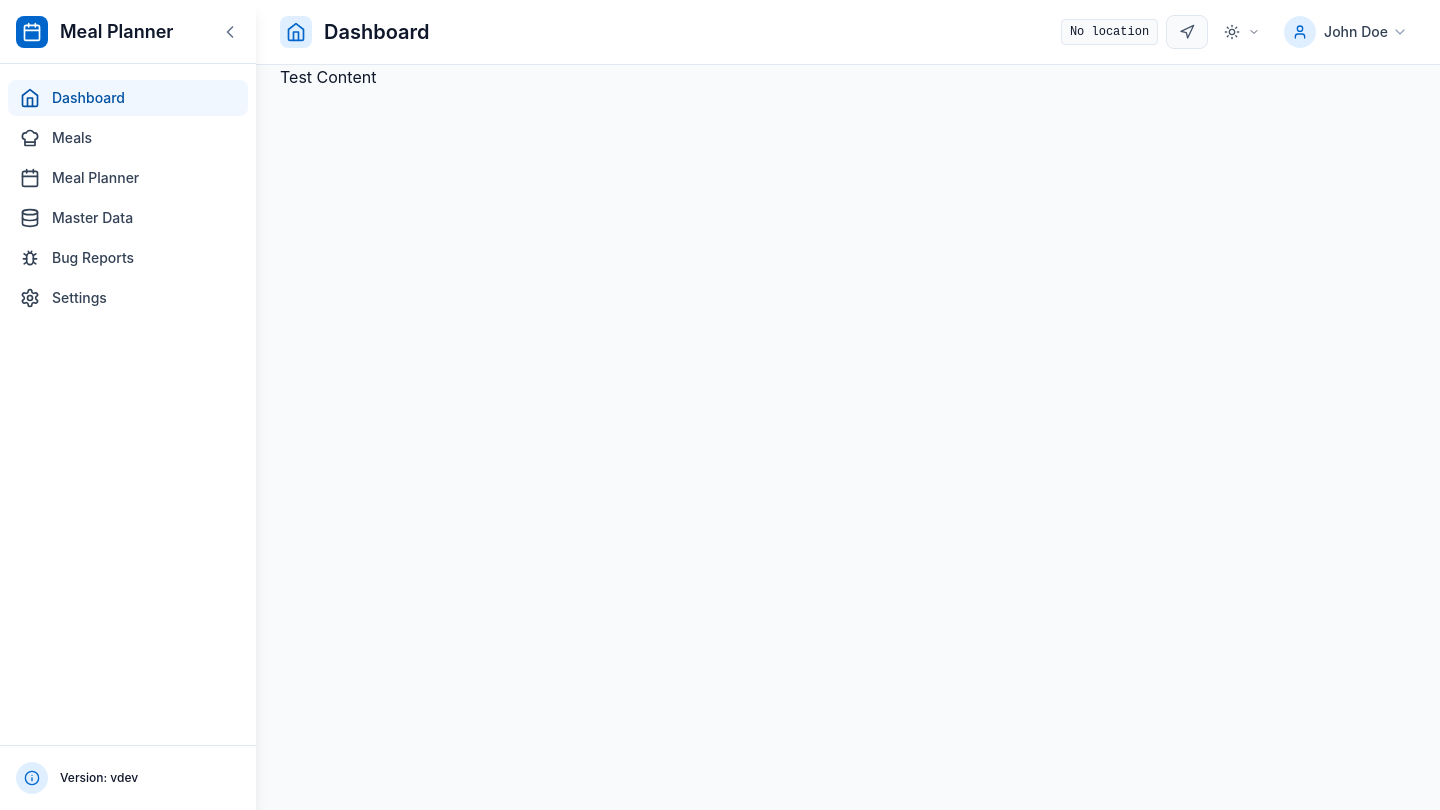
Test case: Layout Component › Sidebar Collapse Behavior › expands when expand button is clicked
First collapse
Click the button titled "Collapse sidebar": (230, 32) [220,22,240,42]
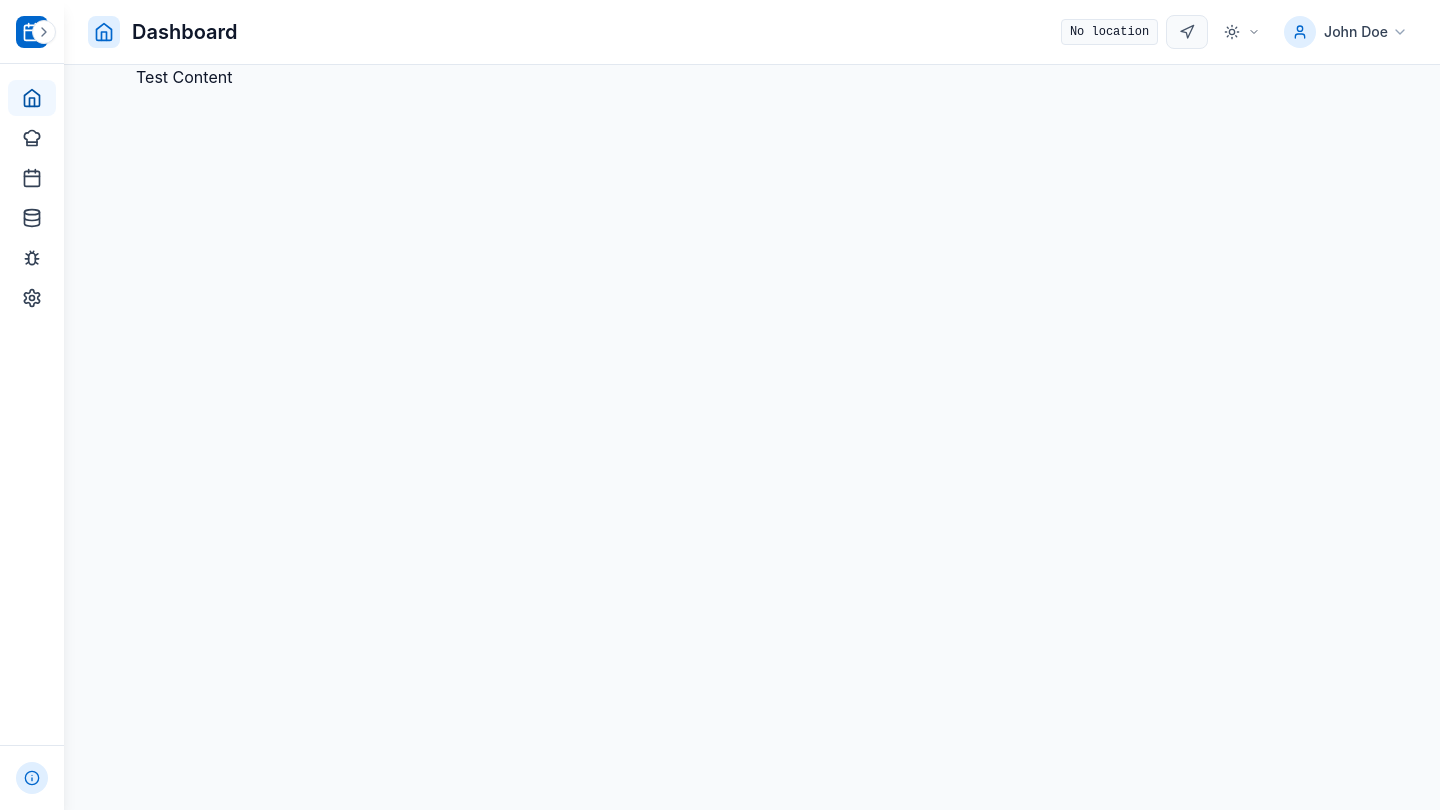
Wait for expand button and click it
Click the button titled "Expand sidebar": (44, 32) [32,20,56,44]
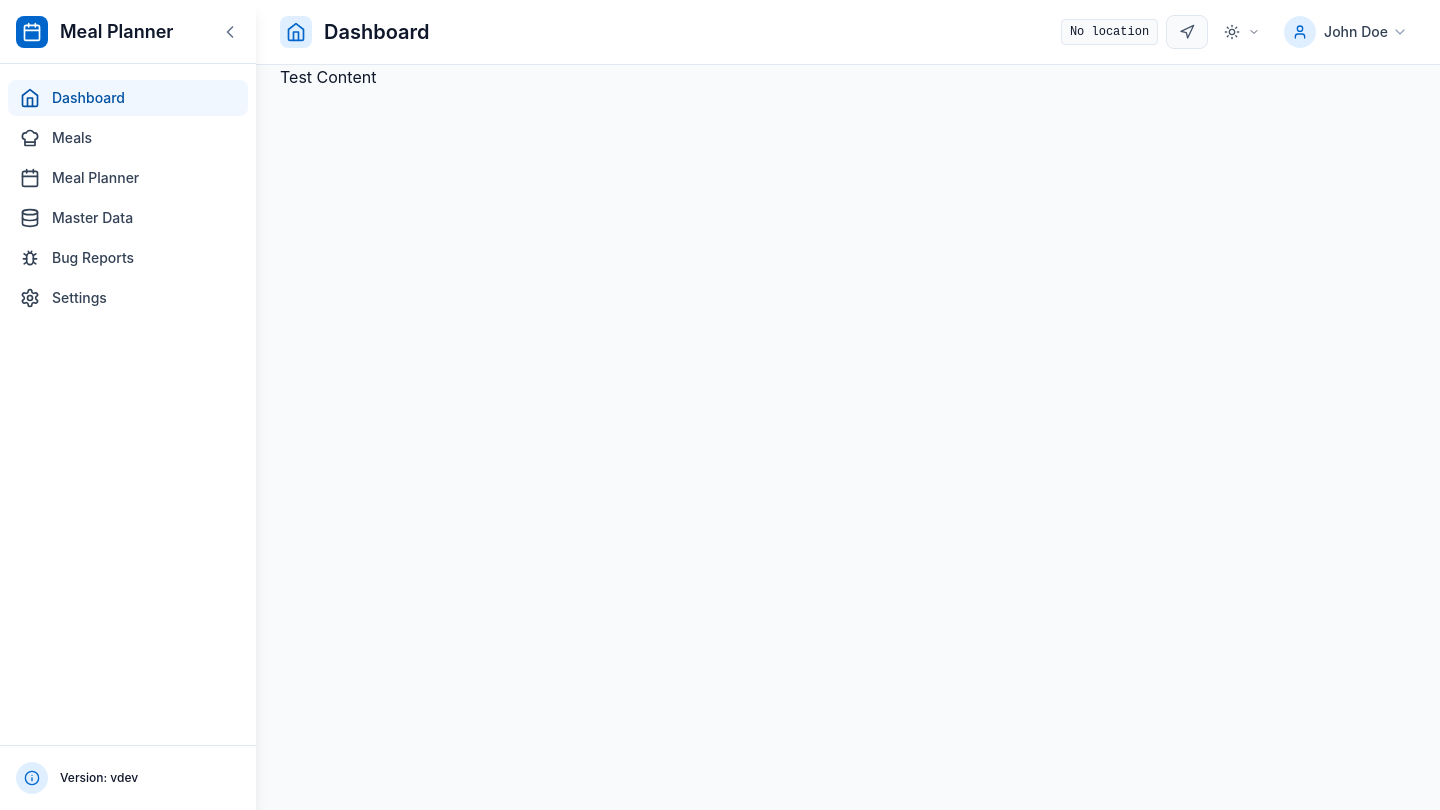
Now the button titled "Collapse sidebar" is shown, box [220,22,240,42]
